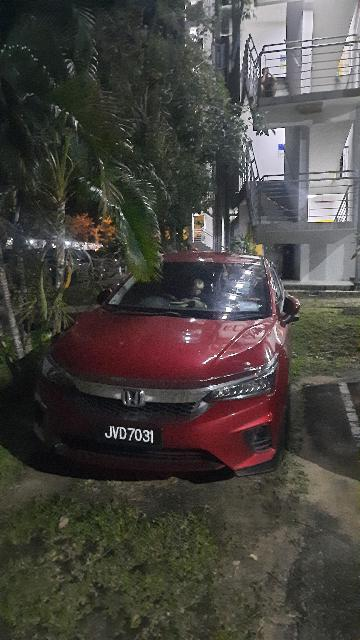License_Plate: (92, 418, 167, 452)
car: (46, 248, 303, 483)
